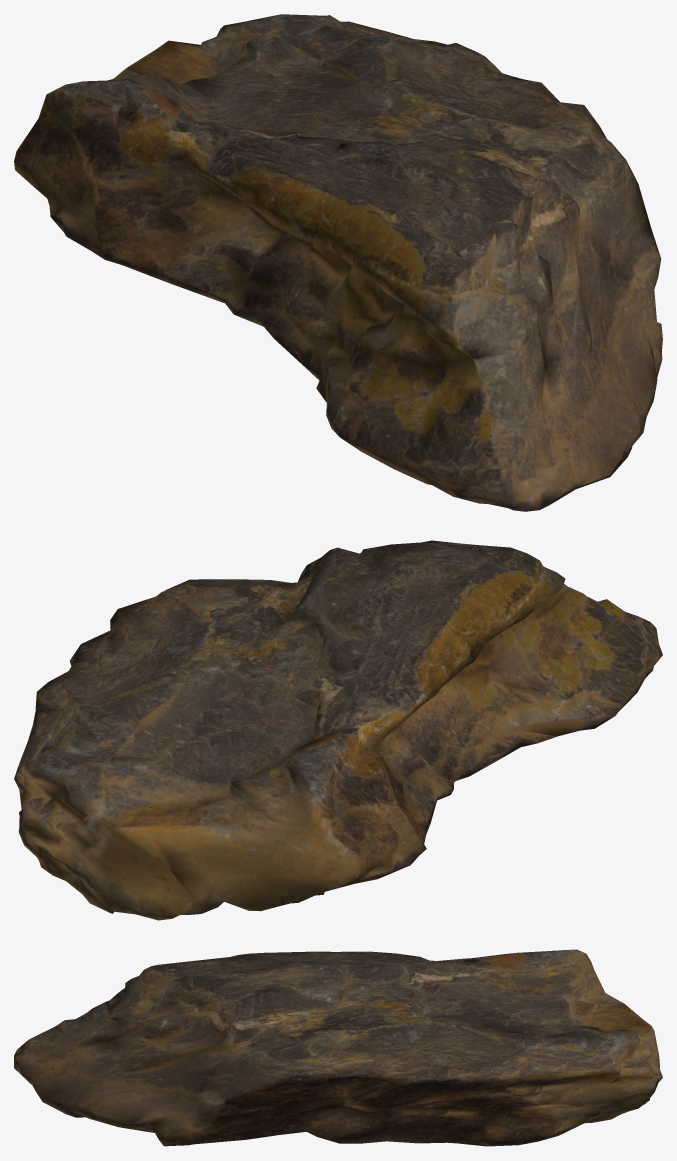
Rendered from rock_09.glb.
3 views of the same model, one above another, from view 1: azimuth 30°, elevation 25°; view 2: azimuth 150°, elevation 25°; view 3: azimuth 270°, elevation 25° (orthographic). The views are drawn at different scales.
Visible parts, largest first — view 1: rock_09_LOD0; view 2: rock_09_LOD0; view 3: rock_09_LOD0.
Boxes of the visible parts, x1,y1,x2,y2 form: rock_09_LOD0: (14,14,662,511); rock_09_LOD0: (14,540,662,920); rock_09_LOD0: (14,949,662,1146).
Size of the model in its own units: 0.0739 by 0.0326 by 0.1446.
Materials: 1 (1 with a texture image).
